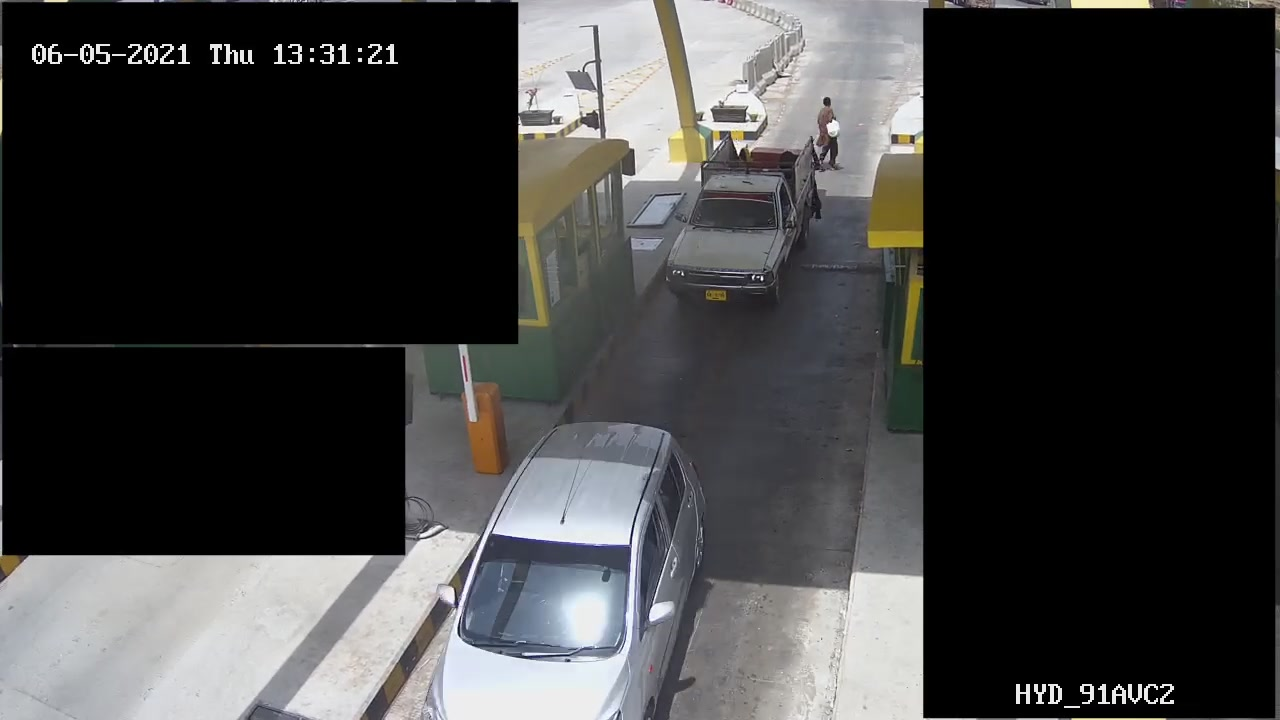F1: (667, 136, 821, 310)
